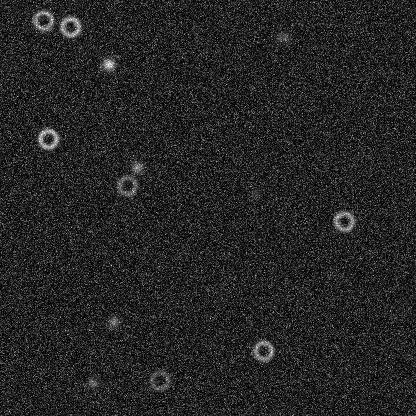Ring: (331, 209, 355, 233), (115, 173, 139, 197), (147, 368, 171, 392), (58, 14, 82, 38), (251, 338, 275, 362), (31, 8, 55, 32), (36, 126, 60, 150)
Spot: (129, 159, 145, 175), (100, 56, 116, 72), (105, 313, 121, 329), (246, 185, 262, 201), (84, 375, 100, 391), (276, 29, 292, 45)
